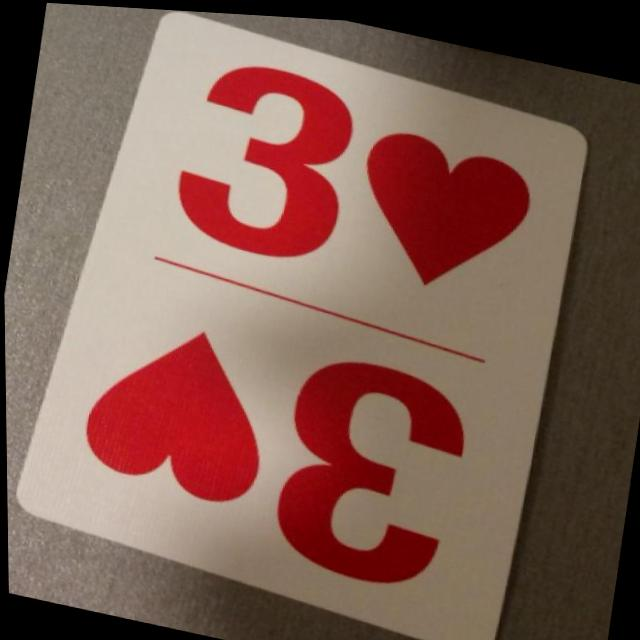Card-3: (15, 8, 583, 640)
